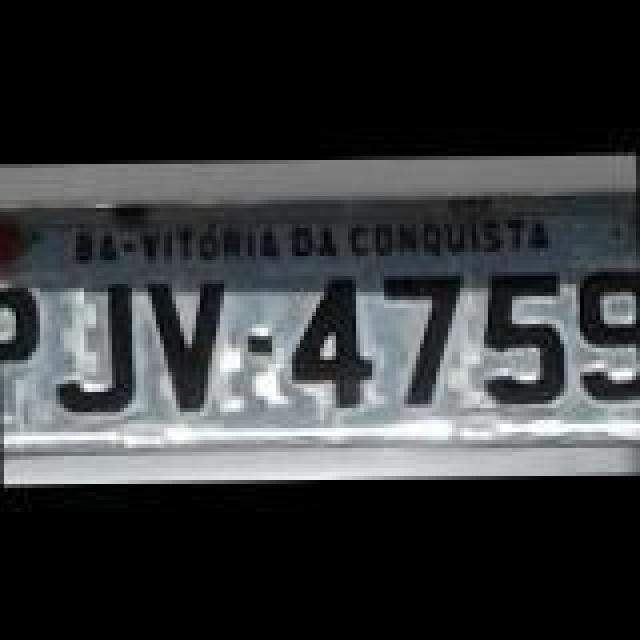4: (286, 272, 370, 416)
5: (474, 272, 566, 408)
7: (384, 276, 464, 412)
9: (578, 266, 638, 406)
J: (52, 290, 140, 414)
P: (0, 280, 40, 424)
V: (144, 274, 240, 414)
